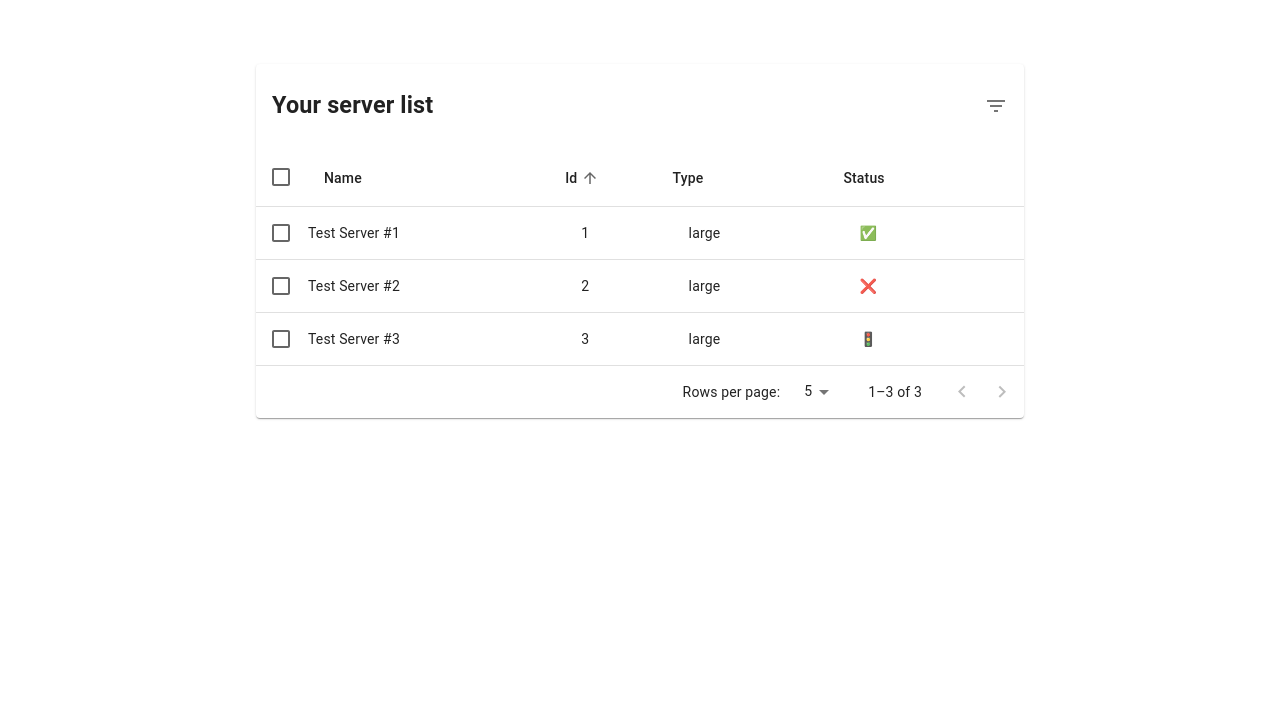
Test: ServerList component properly display servers › Servers Are render in table and we test delete button
The image size is (1280, 720).
Expected: the column heading "Test Server #1" is shown, [308,206,565,259]
Expected: the column heading "Test Server #2" is shown, [308,259,565,312]
Click on the input and verify that the subElements are displayed
Click the checkbox named "select all servers": (281, 177) [269,165,293,189]
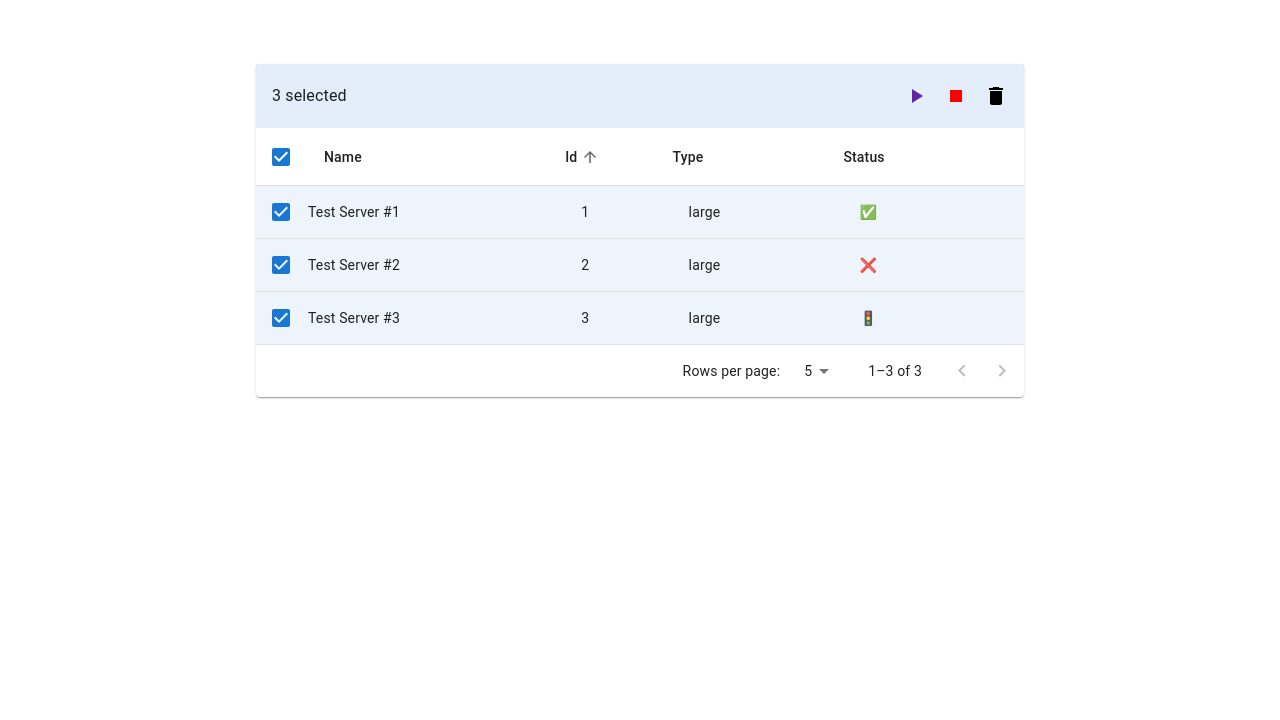
Expected: the checkbox named "select all servers" is checked, [269,145,293,169]
Expected: the button named "Delete" is shown
Click the button named "Delete": (996, 96) [976,76,1016,116]
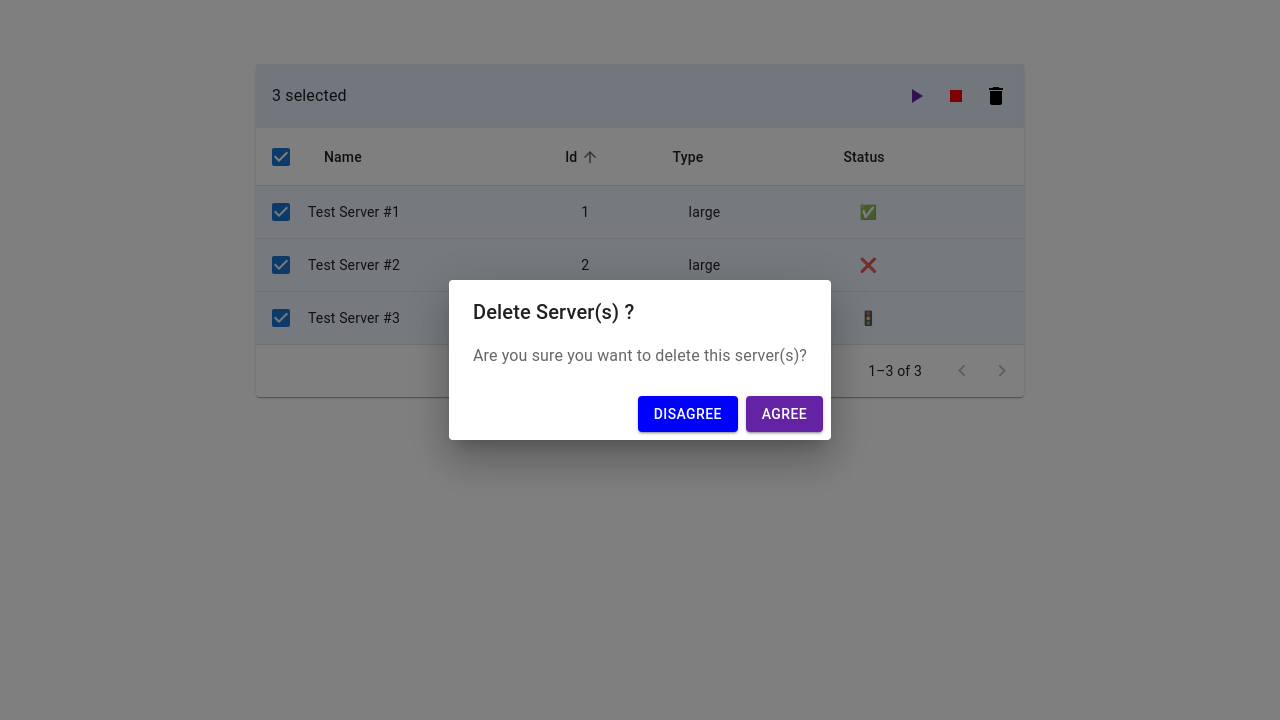
Expected: the button with test id "modal-agree" is shown
Click the button with test id "modal-agree": (784, 414) [746,396,823,432]
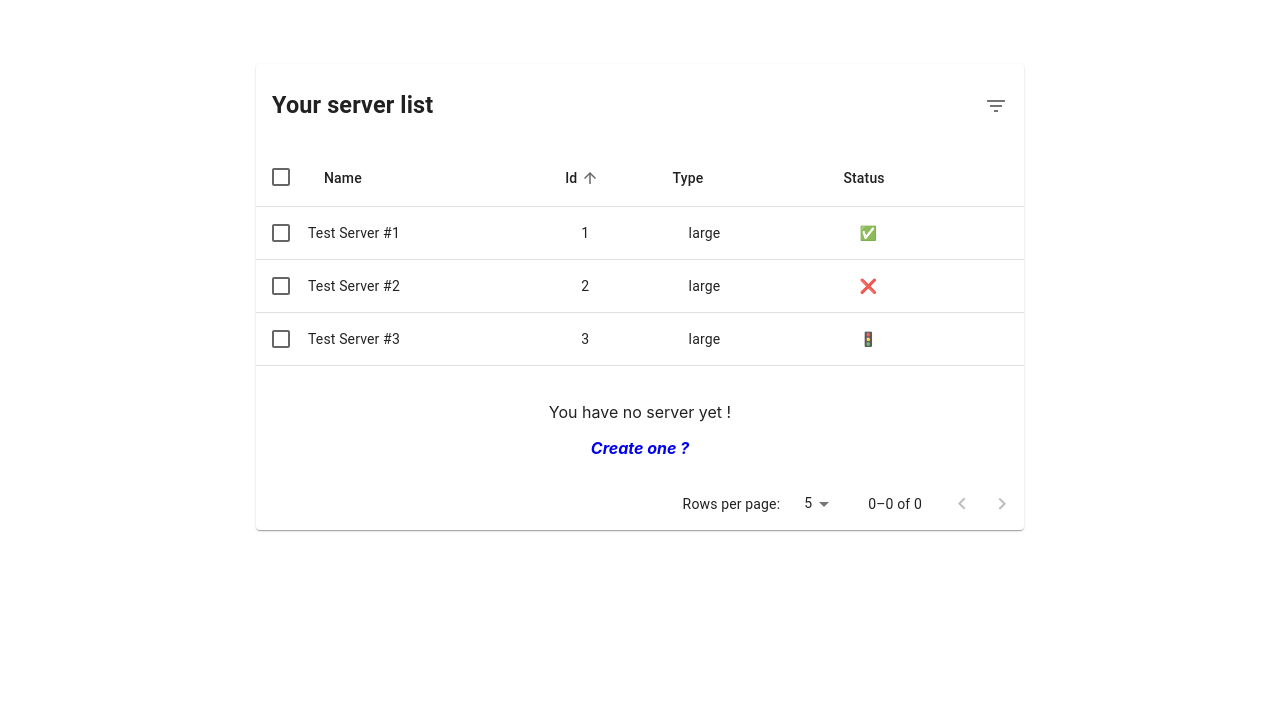
Expected: the text "You have no server yet !" is shown, [549,402,731,422]
